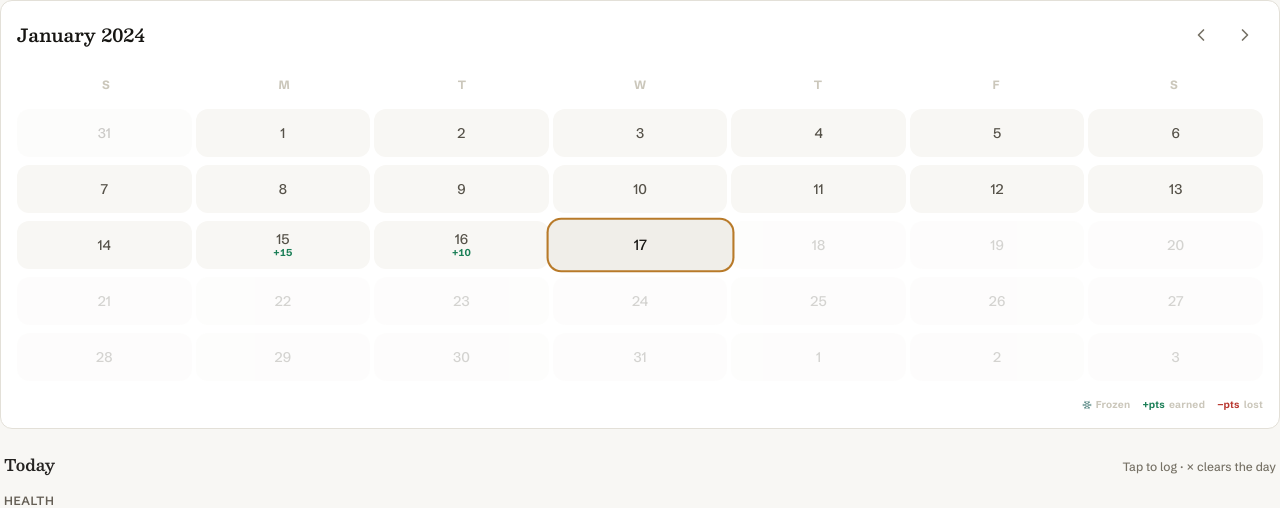
it: HabitHistoryCalendar › navigates to the previous and next month
expect the heading "January 2024" is shown: met, box x1=17 y1=21 x2=145 y2=49
Click the button named "Previous month" at [1201, 35], box x1=1183 y1=17 x2=1219 y2=53
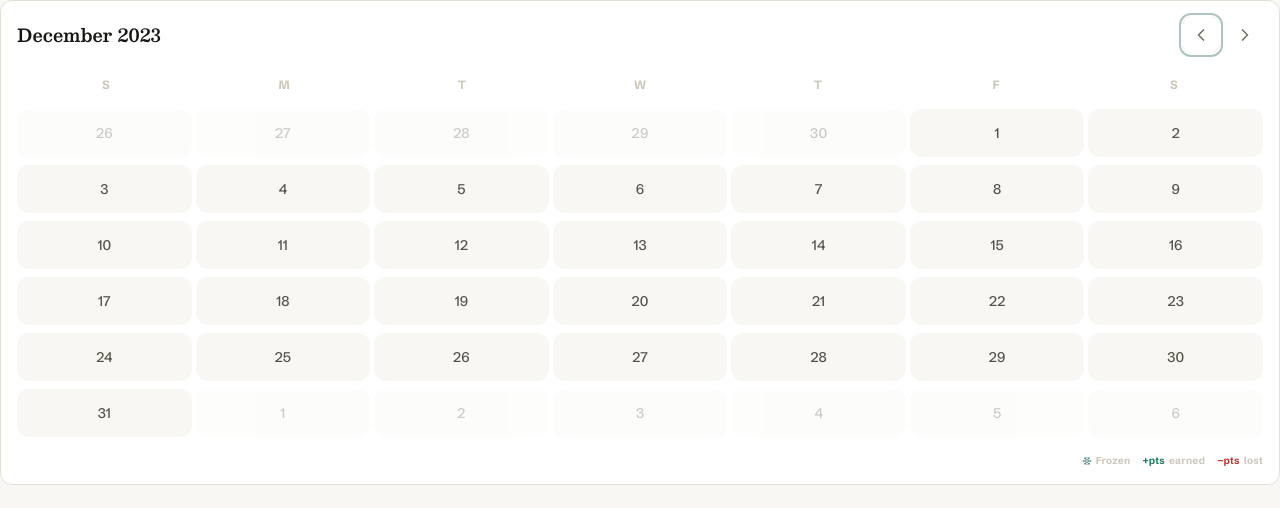
expect the heading "December 2023" is shown: met, box x1=17 y1=21 x2=161 y2=49
Click the button named "Next month" at [1245, 35], box x1=1227 y1=17 x2=1263 y2=53
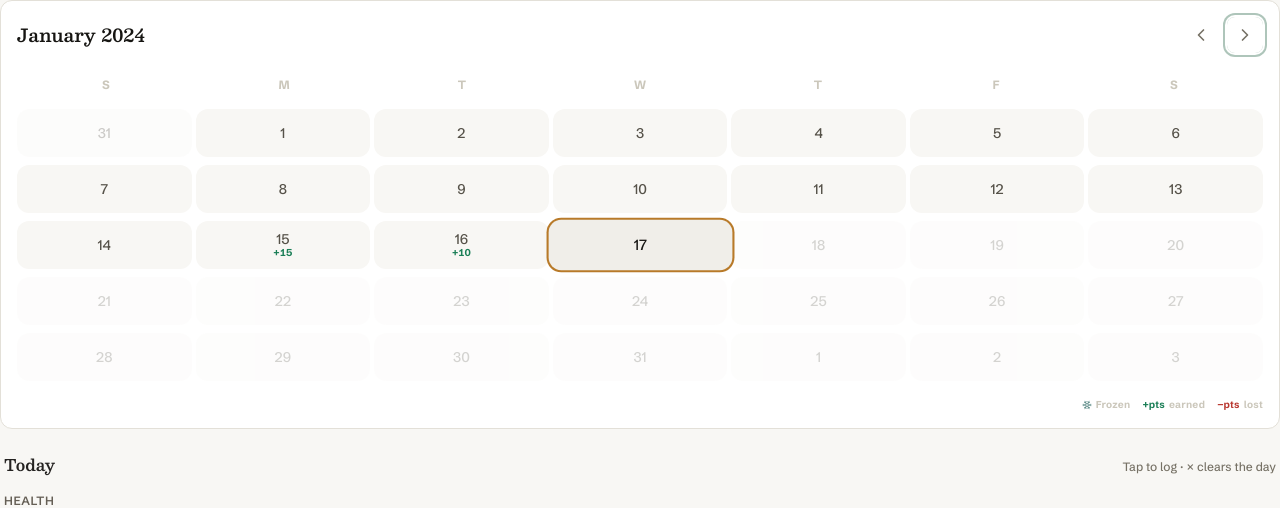
expect the heading "January 2024" is shown: met, box x1=17 y1=21 x2=145 y2=49
